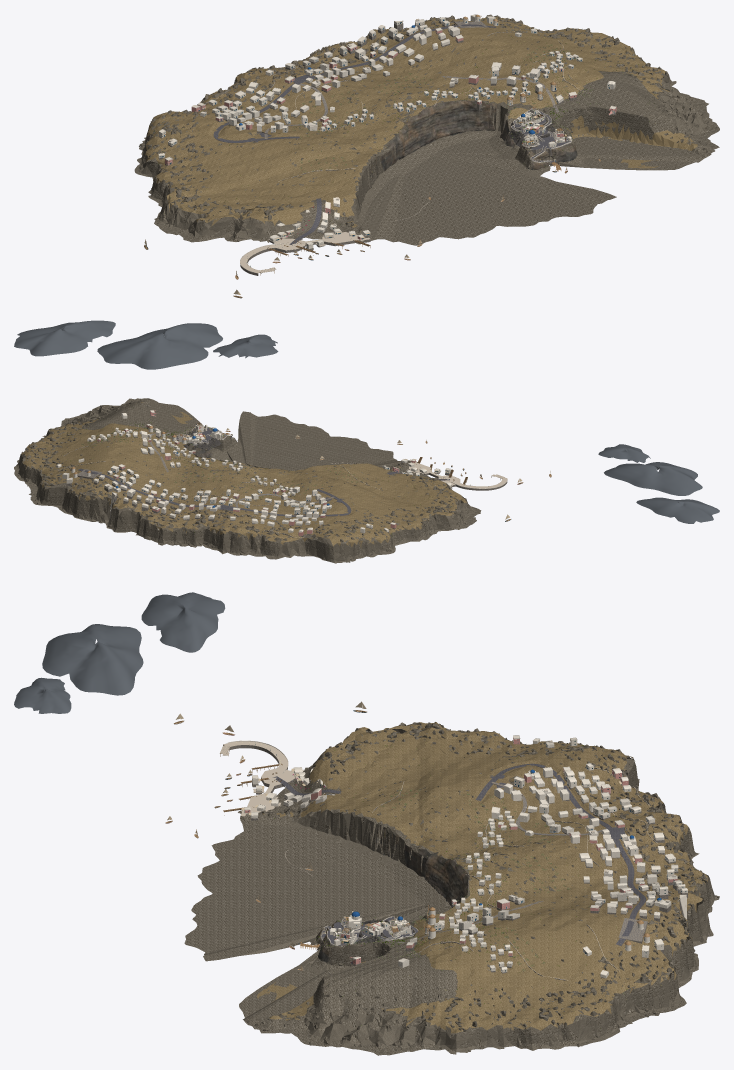
Rendered from santorini_v4_lite-BGzV_tY7.glb.
3 views of the same model, one above another, from view 1: azimuth 30°, elevation 25°; view 2: azimuth 150°, elevation 25°; view 3: azimuth 270°, elevation 25° (orthographic). The views are drawn at different scales.
Parts seen in each view (by area): view 1: object 57, object 86, object 62, object 84, object 66, object 65, object 87, object 56, object 53, object 58, object 98, object 4; view 2: object 57, object 62, object 86, object 84, object 65, object 66, object 56, object 58, object 98, object 4, object 53; view 3: object 57, object 86, object 62, object 84, object 66, object 65, object 56, object 87, object 58, object 53, object 4, object 98 (+1 smaller).
Boxes of the visible parts, left/top/right/bottom form: object 57: left=134, top=16, right=719, bottom=245; object 86: left=158, top=14, right=616, bottom=297; object 62: left=138, top=14, right=718, bottom=241; object 84: left=14, top=320, right=278, bottom=369; object 66: left=521, top=71, right=684, bottom=169; object 65: left=158, top=20, right=642, bottom=298; object 87: left=393, top=100, right=483, bottom=159; object 56: left=213, top=24, right=570, bottom=245; object 53: left=162, top=18, right=640, bottom=272; object 58: left=240, top=232, right=370, bottom=273; object 98: left=165, top=30, right=616, bottom=279; object 4: left=144, top=14, right=567, bottom=297; object 57: left=14, top=398, right=481, bottom=563; object 62: left=14, top=398, right=474, bottom=562; object 86: left=55, top=410, right=549, bottom=535; object 84: left=598, top=444, right=719, bottom=523; object 65: left=59, top=405, right=550, bottom=538; object 66: left=81, top=402, right=226, bottom=441; object 56: left=78, top=427, right=449, bottom=516; object 58: left=409, top=459, right=507, bottom=488; object 98: left=97, top=410, right=522, bottom=535; object 4: left=71, top=426, right=551, bottom=521; object 53: left=58, top=405, right=507, bottom=537; object 57: left=184, top=722, right=719, bottom=1055; object 86: left=165, top=710, right=687, bottom=978; object 62: left=246, top=722, right=719, bottom=1052; object 84: left=14, top=592, right=225, bottom=713; object 66: left=313, top=921, right=457, bottom=1015; object 65: left=174, top=720, right=687, bottom=980; object 56: left=273, top=763, right=645, bottom=947; object 87: left=424, top=852, right=469, bottom=905; object 58: left=223, top=741, right=303, bottom=816; object 53: left=219, top=737, right=681, bottom=980; object 4: left=165, top=701, right=655, bottom=948; object 98: left=166, top=732, right=677, bottom=964.
Bounding box in the file's own units: 884 × 54.56 × 569.
Materials: 134 (85 with a texture image).
